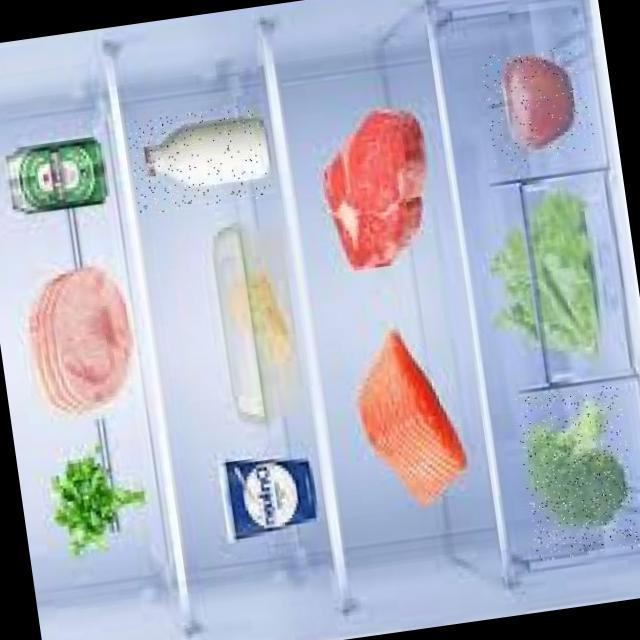Brocoli: (514, 381, 640, 560)
Manzana: (480, 42, 596, 165)
milk: (127, 101, 273, 215)
